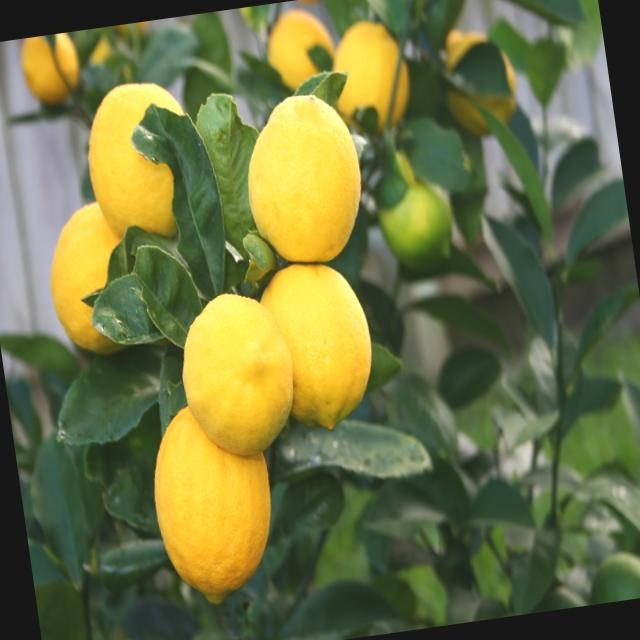lemon: (142, 395, 286, 606), (228, 82, 379, 269), (172, 284, 306, 462), (256, 255, 382, 435), (78, 74, 202, 248), (39, 198, 140, 360), (322, 16, 414, 140)
